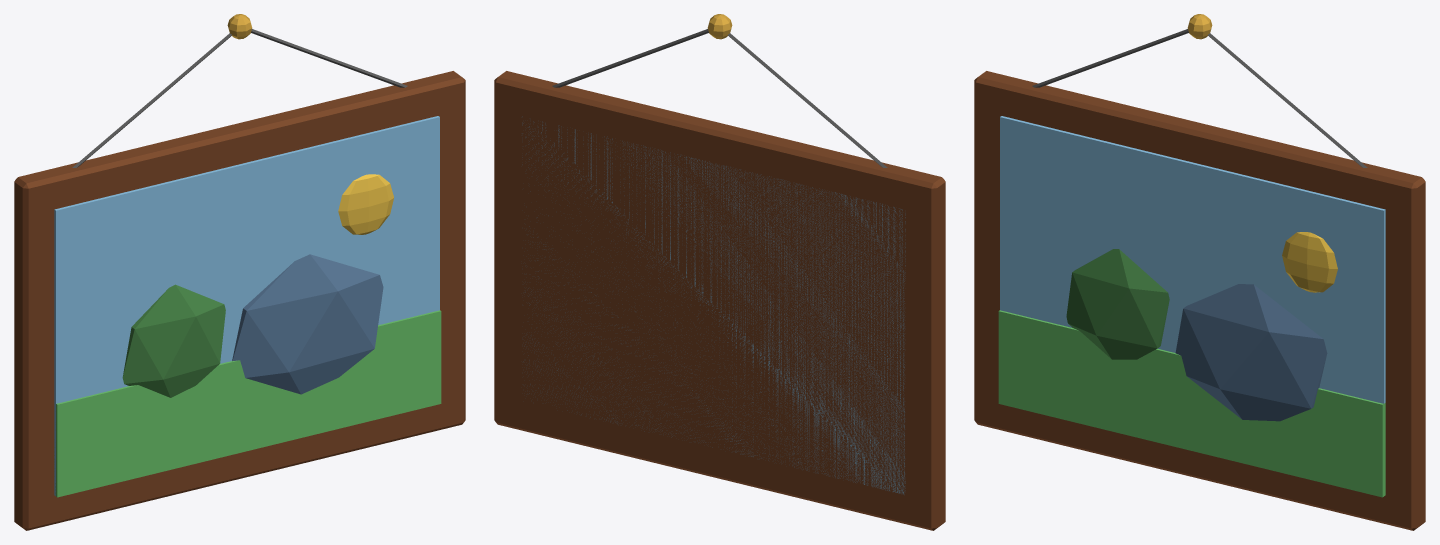
File: wall_art_landscape.glb
3 renders of one model, left to right at view 1: azimuth 30°, elevation 25°; view 2: azimuth 150°, elevation 25°; view 3: azimuth 330°, elevation 25°, orthographic.
Parts seen in each view (by area): view 1: wall_art_landscape; view 2: wall_art_landscape; view 3: wall_art_landscape.
Boxes of the visible parts, x1,y1,x2,y2 form: wall_art_landscape: (14,14,465,530); wall_art_landscape: (494,14,945,530); wall_art_landscape: (974,14,1425,530).
Size of the model in its own units: 0.6 by 0.595 by 0.049.
